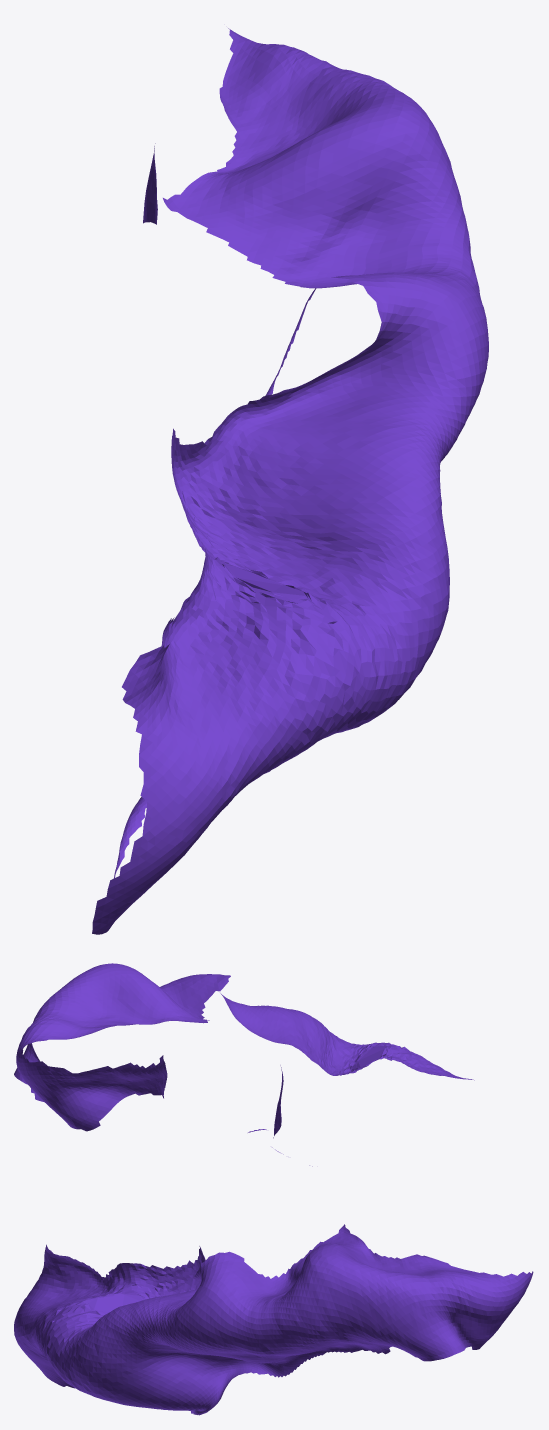
Rendered from rh_precentral.glb.
The picture shows the model from 3 angles, top to bottom: view 1: azimuth 30°, elevation 25°; view 2: azimuth 150°, elevation 25°; view 3: azimuth 270°, elevation 25°; orthographic projection. The views are drawn at different scales.
Parts seen in each view (by area): view 1: world; view 2: world; view 3: world.
Boxes of the visible parts, left/top/right/bottom form: world: left=92, top=28, right=488, bottom=934; world: left=14, top=963, right=474, bottom=1166; world: left=14, top=1224, right=533, bottom=1415.
Bounding box in the file's own units: 61.07 × 45.31 × 79.16.
